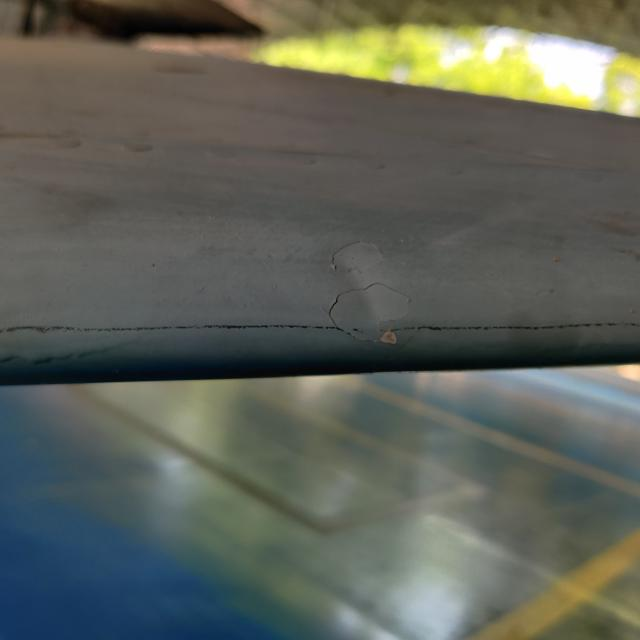dent: (290, 218, 427, 360)
